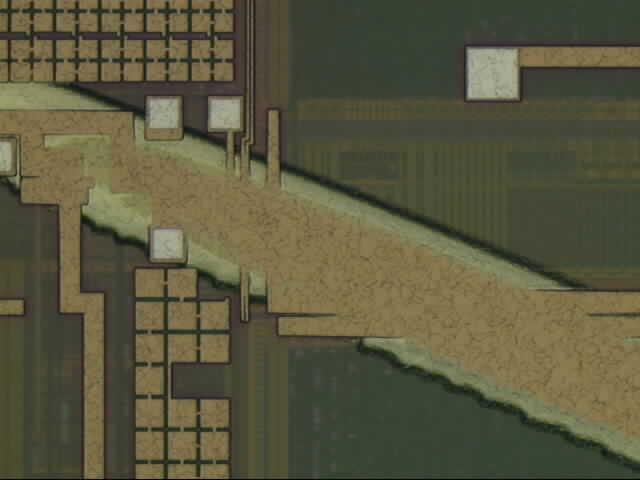BLOCK ETCH: (1, 50, 640, 478)
